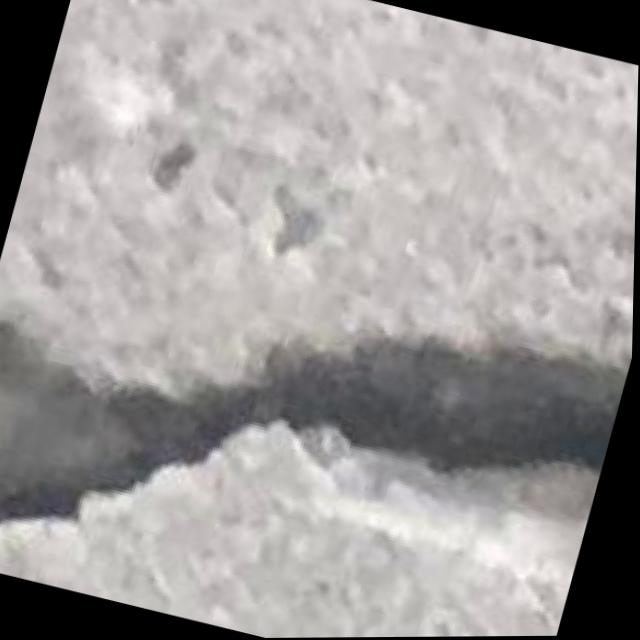Crack: (0, 201, 632, 640)
